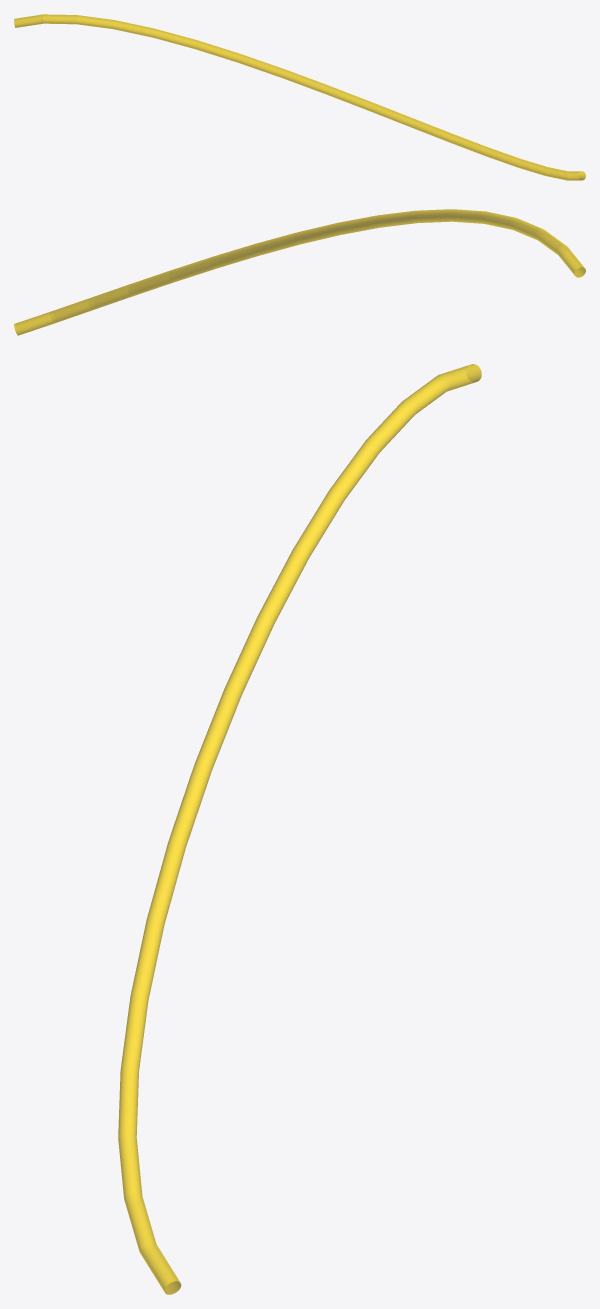
Rendered from Event_17758602_track_88.fbx.
The picture shows the model from 3 angles, top to bottom: view 1: azimuth 30°, elevation 25°; view 2: azimuth 150°, elevation 25°; view 3: azimuth 270°, elevation 25°; orthographic projection. The views are drawn at different scales.
Parts seen in each view (by area): view 1: Model; view 2: Model; view 3: Model.
Boxes of the visible parts, box(x1,y1,x2,y2) form: Model: box(14, 14, 585, 180); Model: box(14, 209, 585, 335); Model: box(118, 364, 481, 1294).
Bounding box in the file's own units: 2.46 × 1.09 × 0.7818.
